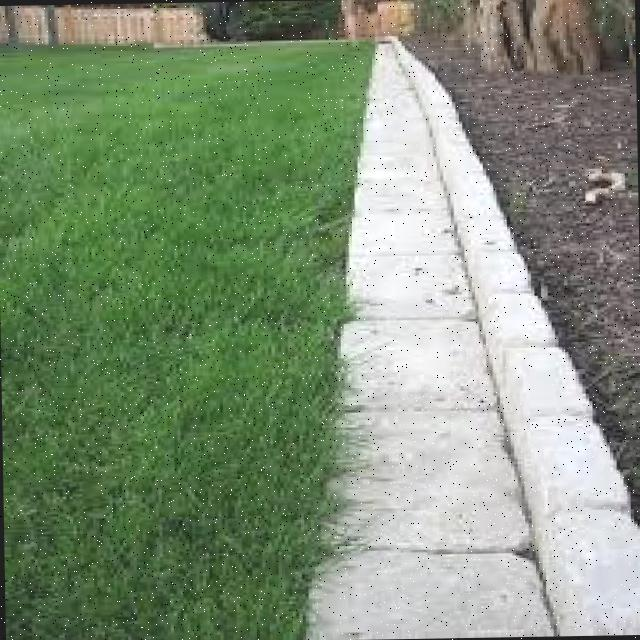curb: (458, 258, 640, 632), (398, 74, 521, 271), (385, 30, 433, 98)
